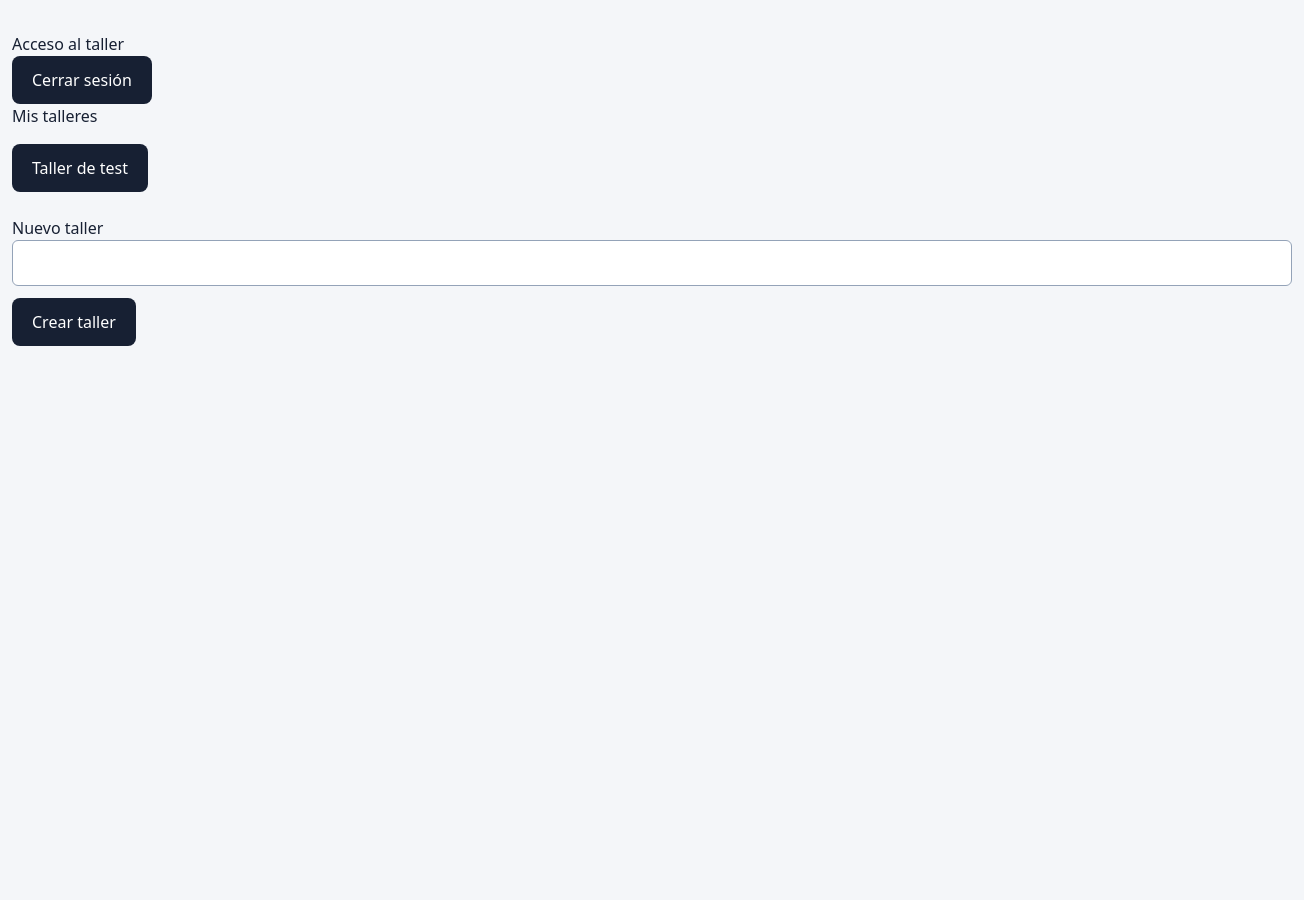
Test: Auth UI mínima, no tests RLS › no ofrece revocar invitaciones aceptadas
Click the button "Taller de test": (80, 168) [12,144,148,192]
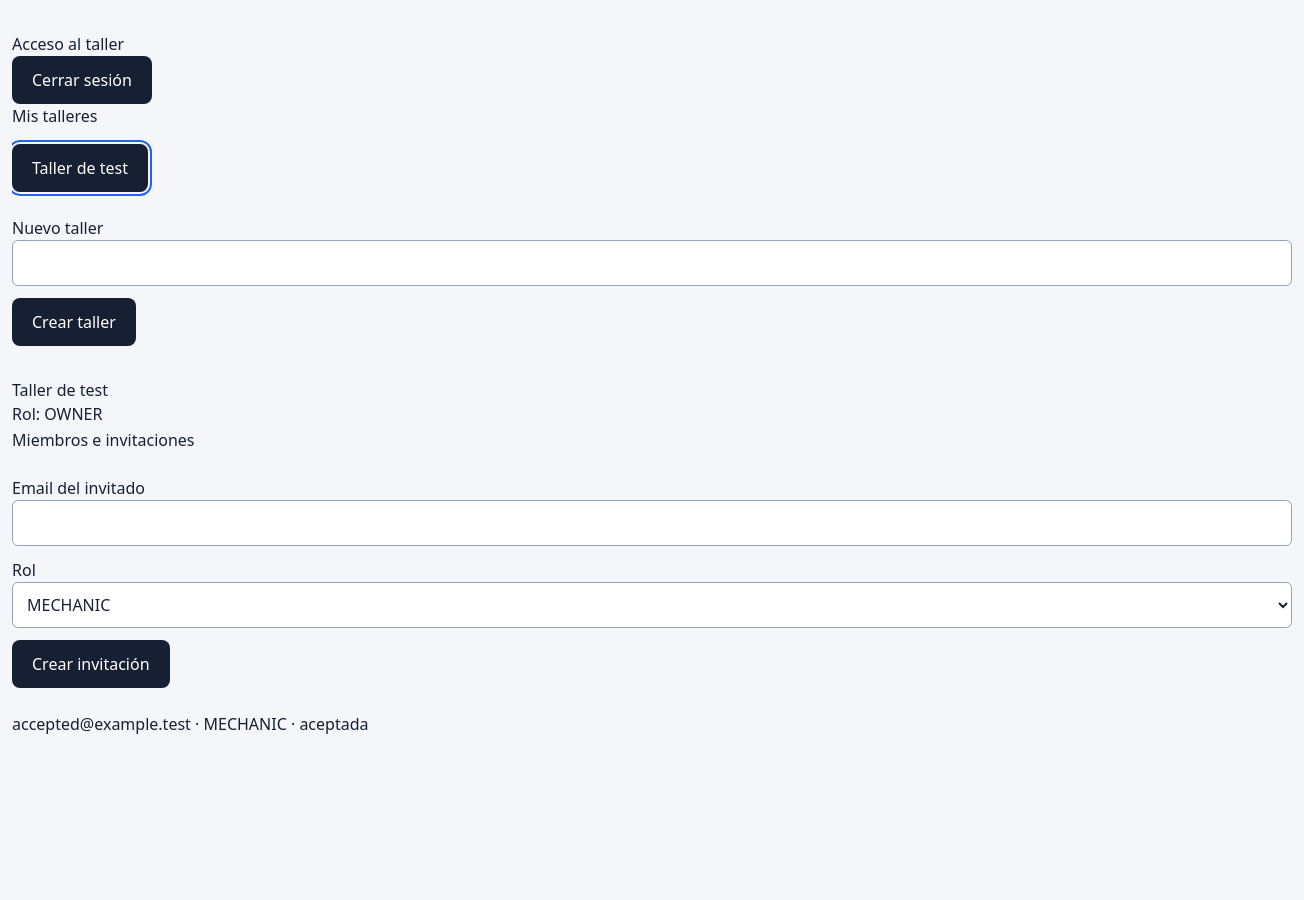
Check: the text "accepted@example.test · MECHANIC · aceptada" is shown, box [12,713,368,735]
